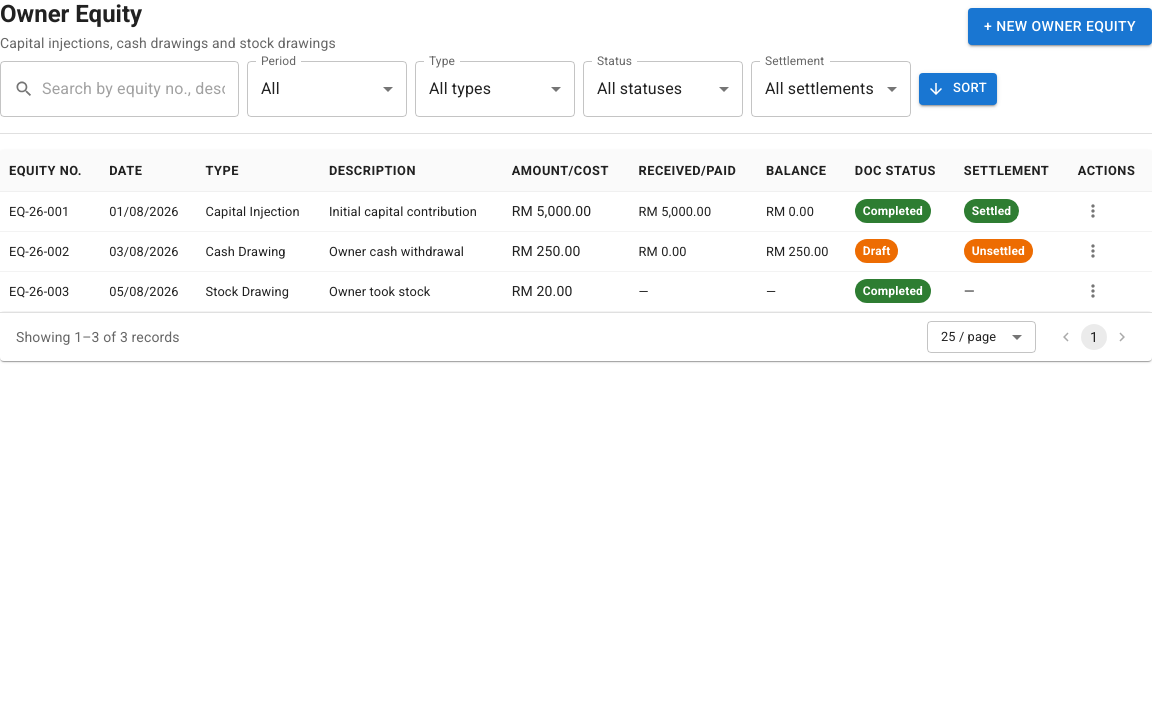
OwnerEquityPage › list-origin Uncomplete › opens the confirmation dialog in place instead of navigating
Click the button named "row actions" in the row of "EQ-26-003".
click(1093, 291)  # box [1078,276,1108,306]
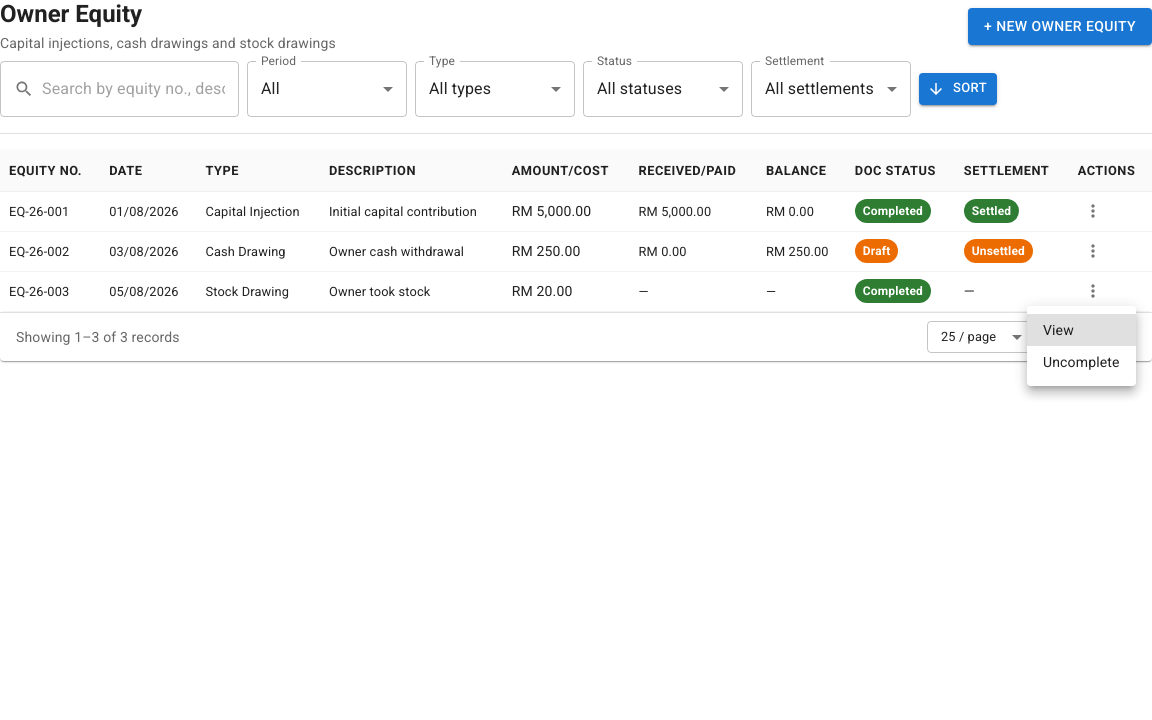
Click the menu item "Uncomplete".
click(1081, 362)  # box [1043,354,1120,370]
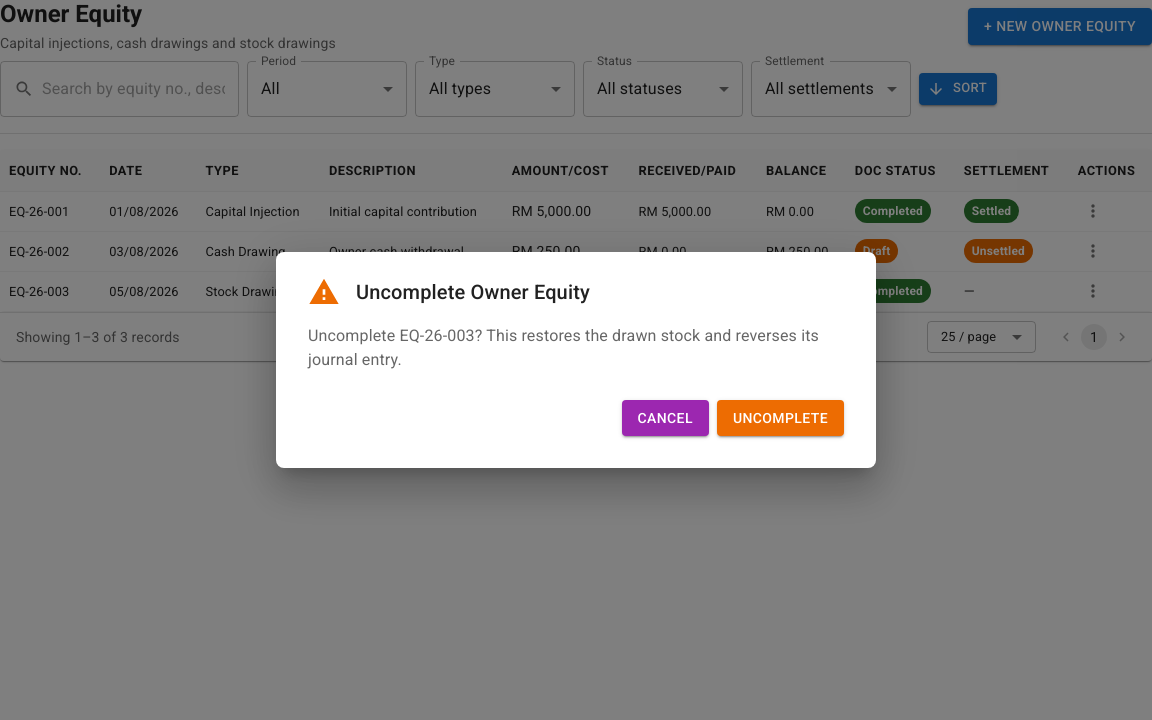
expect the text "Uncomplete Owner Equity" is shown: met, box [356,276,590,308]
